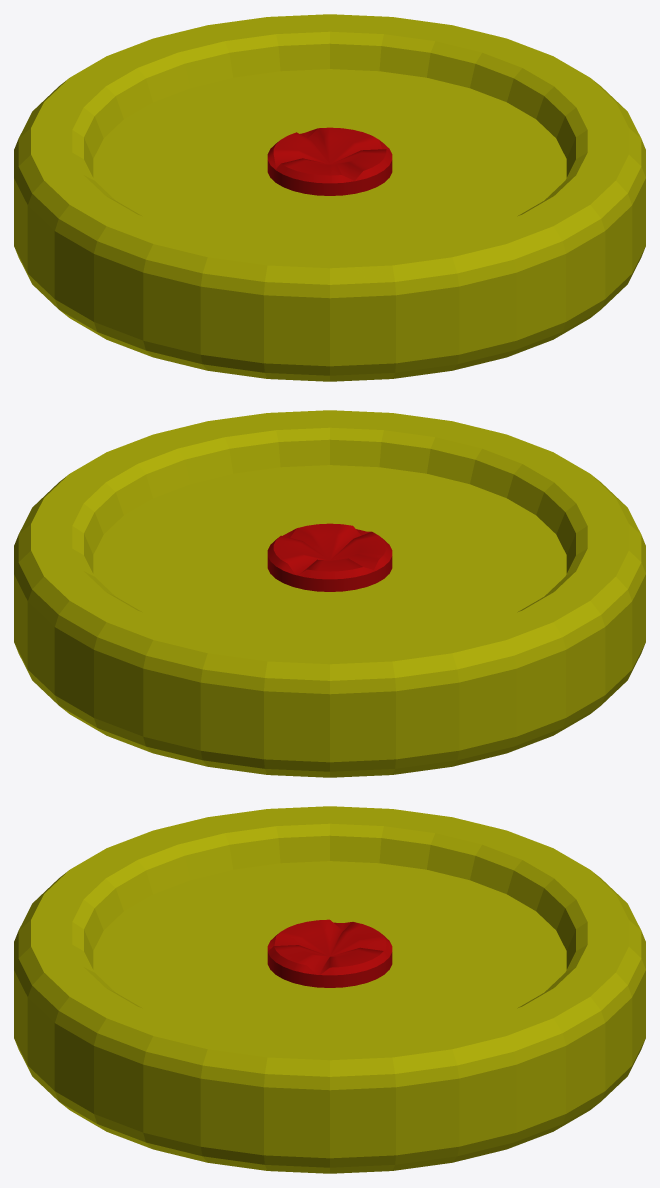
File: screwed coin.fbx
The picture shows the model from 3 angles, top to bottom: view 1: azimuth 30°, elevation 25°; view 2: azimuth 150°, elevation 25°; view 3: azimuth 270°, elevation 25°; orthographic projection.
Parts seen in each view (by area): view 1: pasted__pCylinder3; view 2: pasted__pCylinder3; view 3: pasted__pCylinder3.
Boxes of the visible parts, <box> form: pasted__pCylinder3: <box>14,14,645,381</box>; pasted__pCylinder3: <box>14,410,645,777</box>; pasted__pCylinder3: <box>14,806,645,1173</box>.
Size of the model in its own units: 10.15 by 2.71 by 10.09.
